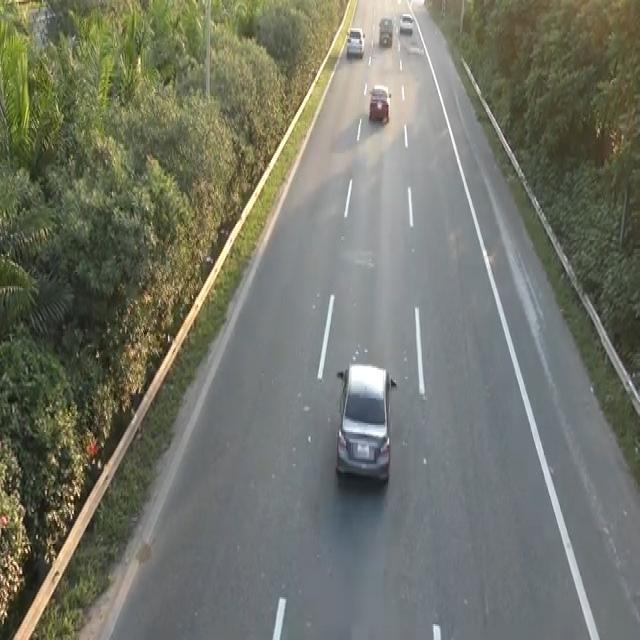bus: (332, 358, 399, 492), (368, 81, 391, 122), (398, 11, 414, 34)
car: (344, 25, 365, 59)
minivan: (377, 16, 393, 46)
